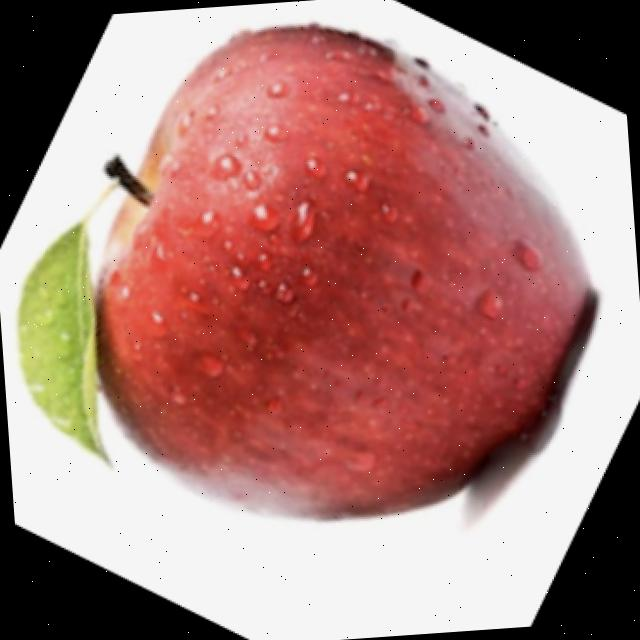Ripe: (59, 0, 614, 547)
